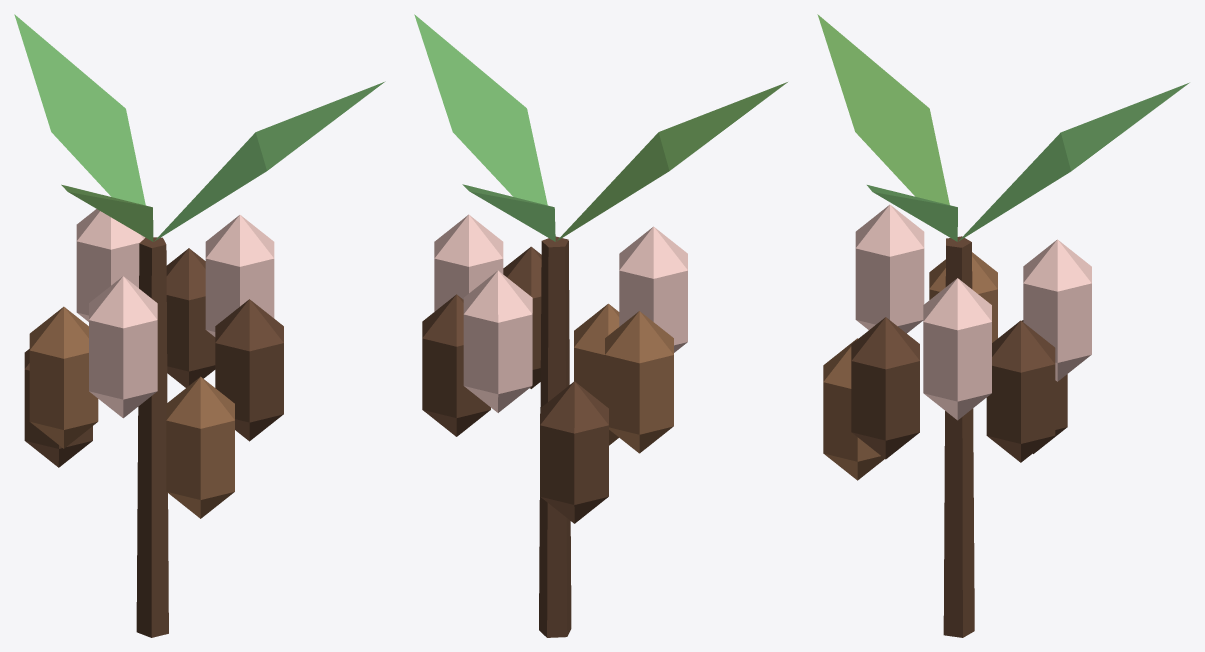
Rendered from deco_date_fruit.obj.
The picture shows the model from 3 angles, left to right: view 1: azimuth 30°, elevation 25°; view 2: azimuth 150°, elevation 25°; view 3: azimuth 270°, elevation 25°; orthographic projection.
Parts seen in each view (by area): view 1: deco_date_fruit; view 2: deco_date_fruit; view 3: deco_date_fruit.
Part boxes in pixels (x1,y1,x2,y2): deco_date_fruit: [14, 14, 385, 637]; deco_date_fruit: [414, 14, 787, 637]; deco_date_fruit: [817, 14, 1189, 637].
Size of the model in its own units: 0.0282 by 0.0415 by 0.0261.
Materials: 1 (1 with a texture image).
